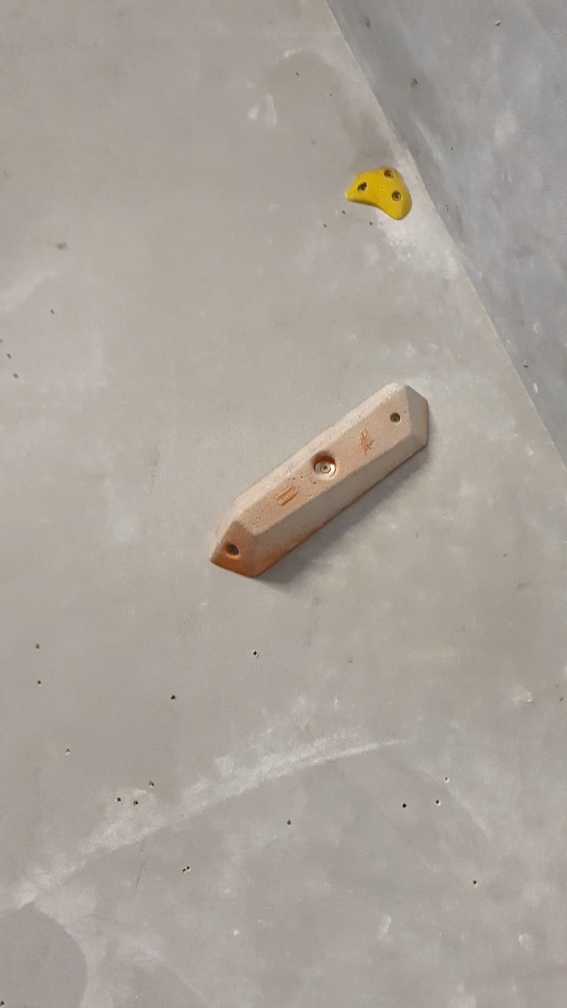Pinch: (207, 379, 432, 582)
